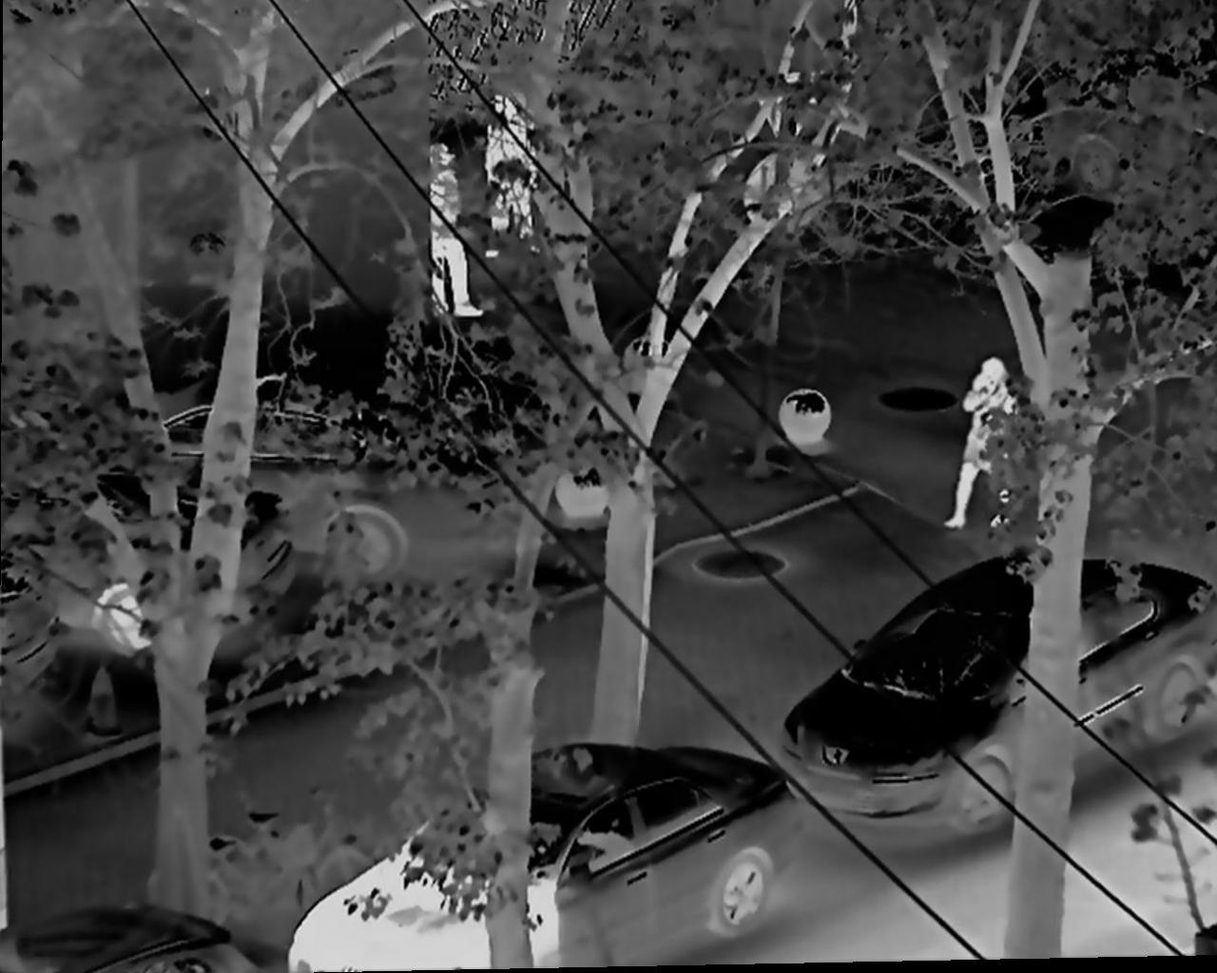person: (951, 357, 1015, 531), (429, 139, 483, 324), (484, 104, 539, 258)
